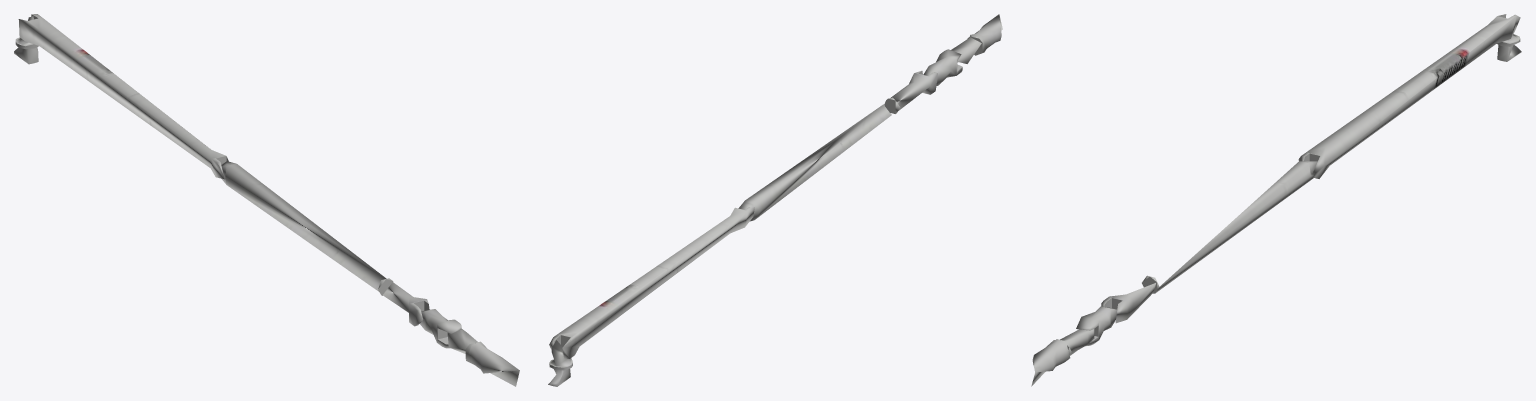
Rendered from space-shuttle-remote-manipulator-system-canadarm.glb.
The picture shows the model from 3 angles, left to right: view 1: azimuth 30°, elevation 25°; view 2: azimuth 150°, elevation 25°; view 3: azimuth 330°, elevation 25°; orthographic projection. The views are drawn at different scales.
Parts seen in each view (by area): view 1: spaceshutt; view 2: spaceshutt; view 3: spaceshutt.
Part boxes in pixels (x1,y1,x2,y2): spaceshutt: (14, 14, 519, 386); spaceshutt: (548, 14, 1002, 386); spaceshutt: (1031, 14, 1521, 386).
Bounding box in the file's own units: 15.51 × 30.21 × 596.
Materials: 1 (1 with a texture image).
